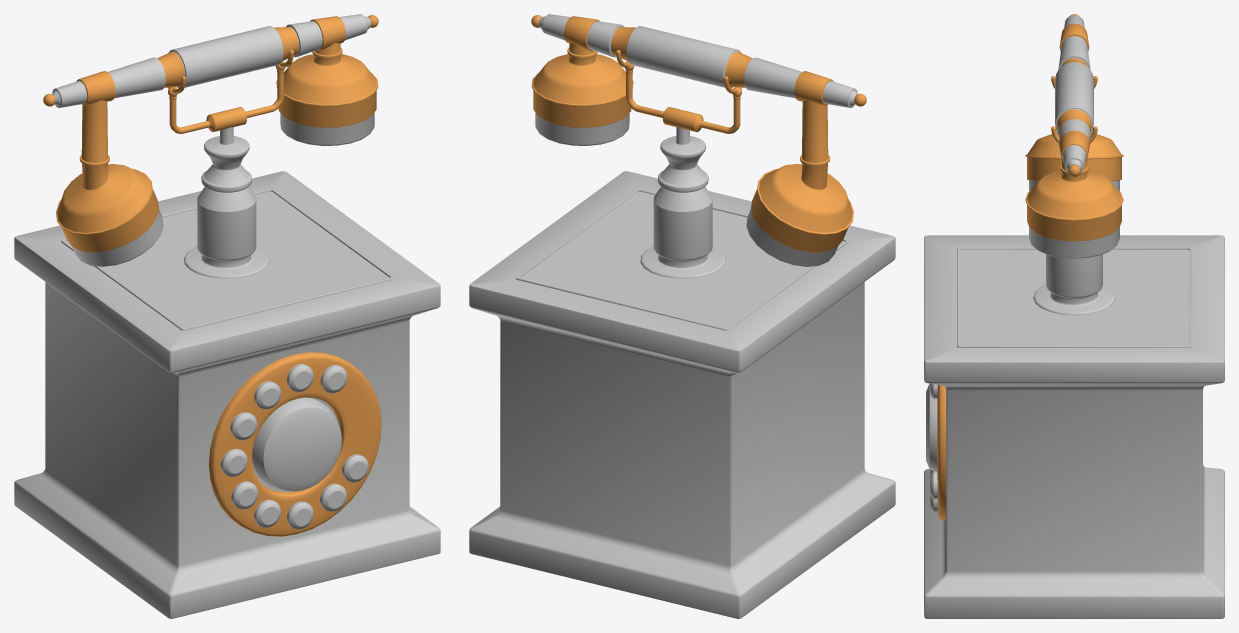
File: phone.fbx
3 renders of one model, left to right at view 1: azimuth 30°, elevation 25°; view 2: azimuth 150°, elevation 25°; view 3: azimuth 270°, elevation 25°, orthographic. The views are drawn at different scales.
Parts seen in each view (by area): view 1: Cube, Cylinder088, Object002, Cylinder.010, Cylinder, Cylinder.002, Object003, Object001, Cylinder.012, Cylinder.011, Cylinder.013, 5 (+9 smaller); view 2: Cube, Object002, Cylinder.010, Cylinder, Object003, Object001, Cylinder.012, Cylinder.011, Cylinder.013; view 3: Cube, Object003, Cylinder.010, Cylinder, Object002, Cylinder.012, Object001, Cylinder088, Cylinder.002.
Boxes of the visible parts, box(x1,y1,x2,y2) form: Cube: box(14, 171, 440, 618); Cylinder088: box(209, 352, 381, 536); Object002: box(56, 100, 159, 252); Cylinder.010: box(184, 127, 269, 278); Cylinder: box(52, 14, 371, 107); Cylinder.002: box(252, 397, 341, 491); Object003: box(276, 43, 378, 127); Object001: box(76, 16, 345, 105); Cylinder.012: box(280, 113, 374, 145); Cylinder.011: box(169, 70, 284, 133); Cylinder.013: box(72, 210, 163, 266); 5: box(220, 448, 247, 476); Cube: box(469, 171, 895, 618); Object002: box(750, 100, 853, 252); Cylinder.010: box(640, 127, 725, 278); Cylinder: box(538, 14, 857, 107); Object003: box(531, 43, 633, 127); Object001: box(564, 16, 833, 105); Cylinder.012: box(535, 113, 629, 145); Cylinder.011: box(625, 70, 740, 133); Cylinder.013: box(746, 210, 837, 266); Cube: box(924, 235, 1224, 618); Object003: box(1025, 159, 1123, 241); Cylinder.010: box(1033, 254, 1115, 315); Cylinder: box(1055, 15, 1093, 172); Object002: box(1025, 132, 1123, 181); Cylinder.012: box(1029, 227, 1119, 258); Object001: box(1057, 23, 1091, 161); Cylinder088: box(937, 385, 945, 520); Cylinder.002: box(926, 383, 937, 471).
Size of the model in its own units: 199 by 280 by 163.
